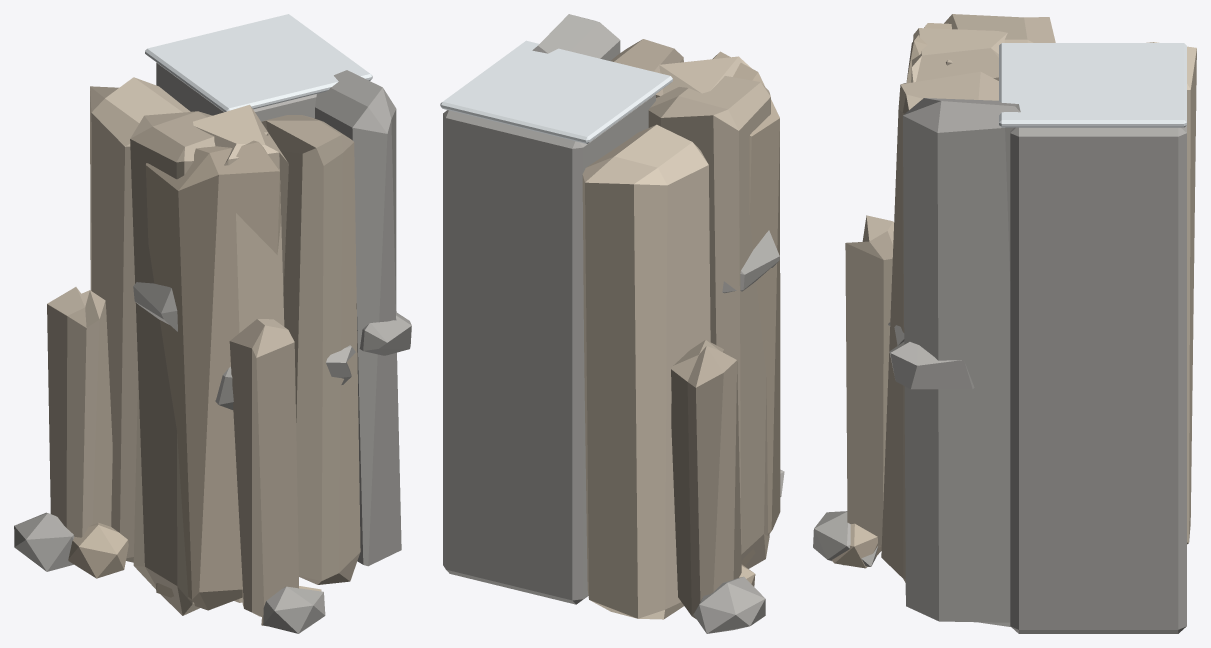
The model's file is cliff_corner_outer.glb.
3 renders of one model, left to right at view 1: azimuth 30°, elevation 25°; view 2: azimuth 150°, elevation 25°; view 3: azimuth 270°, elevation 25°, orthographic. The views are drawn at different scales.
Parts seen in each view (by area): view 1: cliff_corner_outer; view 2: cliff_corner_outer; view 3: cliff_corner_outer.
Boxes of the visible parts, x1,y1,x2,y2 form: cliff_corner_outer: (14, 14, 411, 633); cliff_corner_outer: (440, 14, 784, 633); cliff_corner_outer: (813, 14, 1196, 633).
Size of the model in its own units: 1.32 by 2.09 by 1.35.
